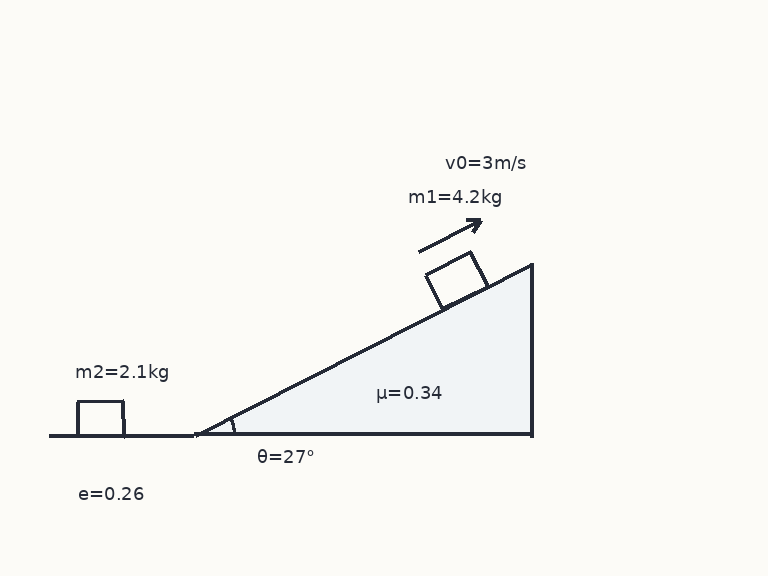block: (423, 250, 489, 311), (75, 399, 125, 437)
ramp: (192, 261, 533, 437)
